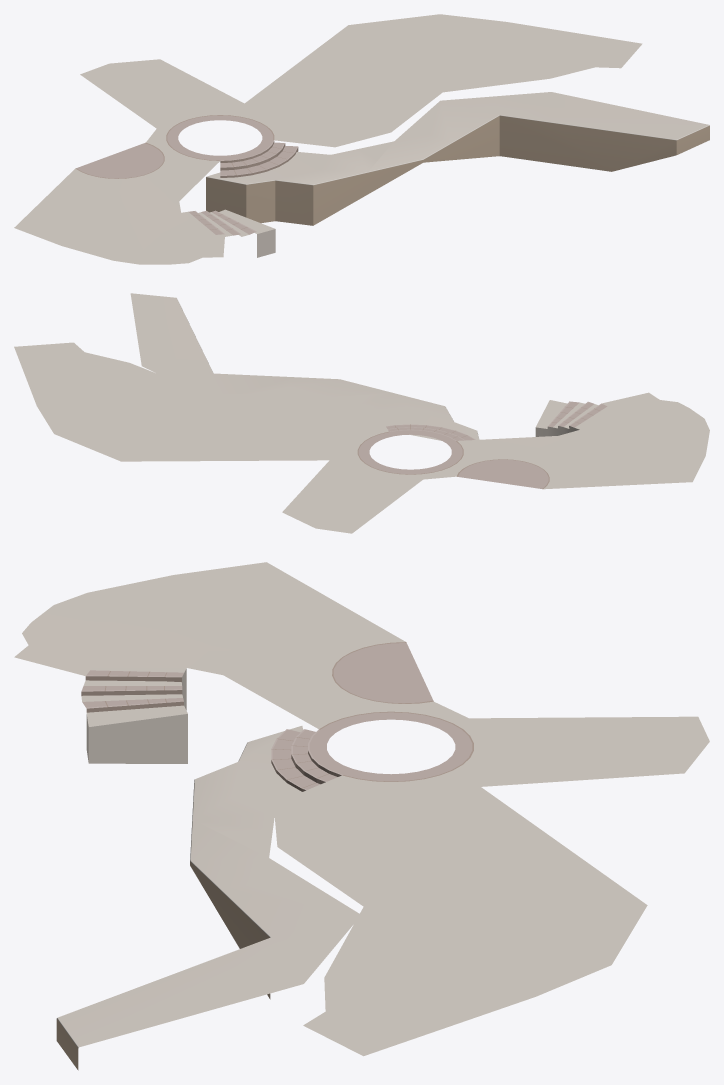
The model's file is TownFloorA_0.glb.
3 views of the same model, one above another, from view 1: azimuth 30°, elevation 25°; view 2: azimuth 150°, elevation 25°; view 3: azimuth 270°, elevation 25° (orthographic). The views are drawn at different scales.
Parts seen in each view (by area): view 1: TownFloorA; view 2: TownFloorA; view 3: TownFloorA.
Part boxes in pixels (left/top/right/bottom): TownFloorA: left=14, top=14, right=709, bottom=264; TownFloorA: left=14, top=293, right=709, bottom=533; TownFloorA: left=14, top=562, right=709, bottom=1070.
Bounding box in the file's own units: 52.6 × 3.65 × 31.31.
